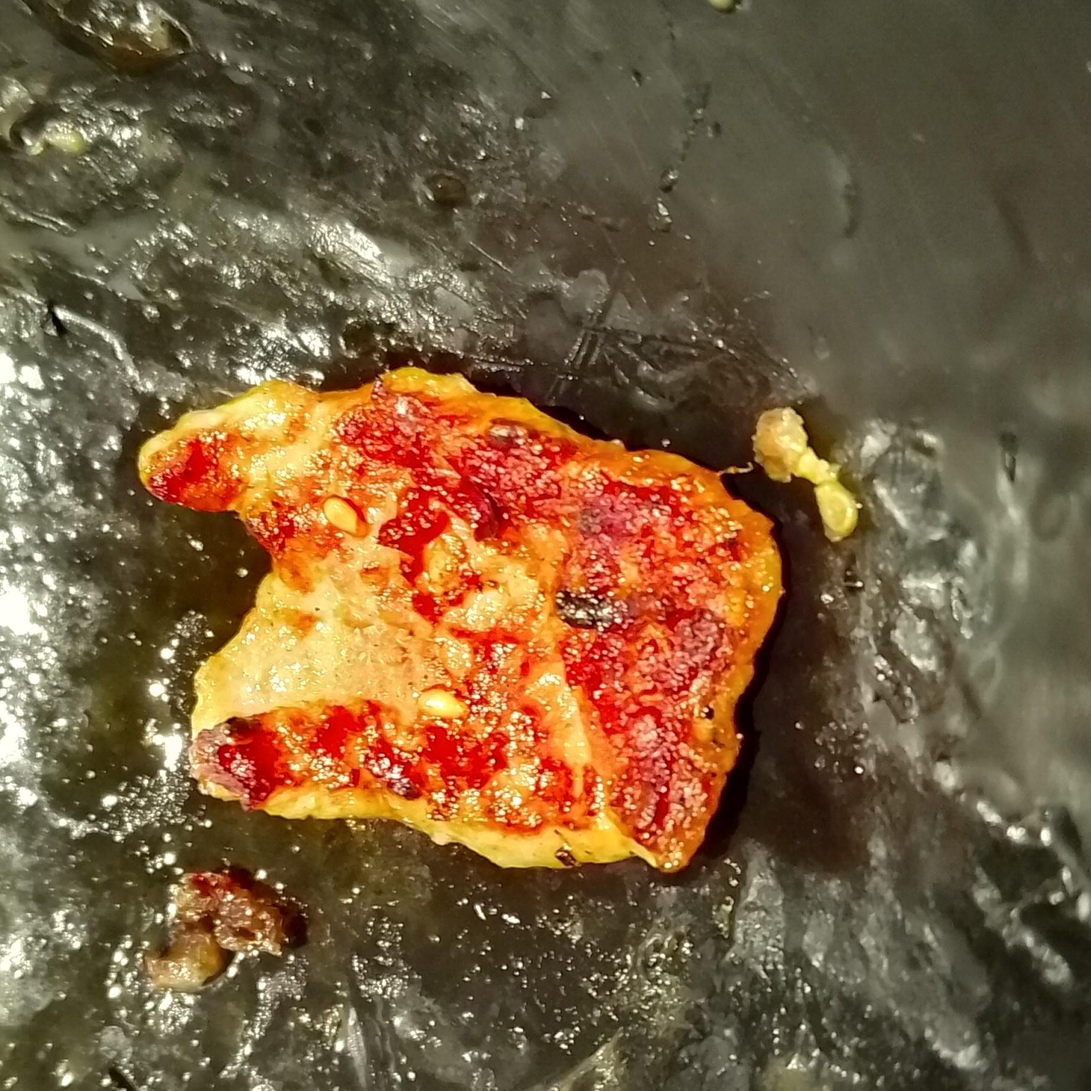Overcooked: (139, 368, 782, 871)
